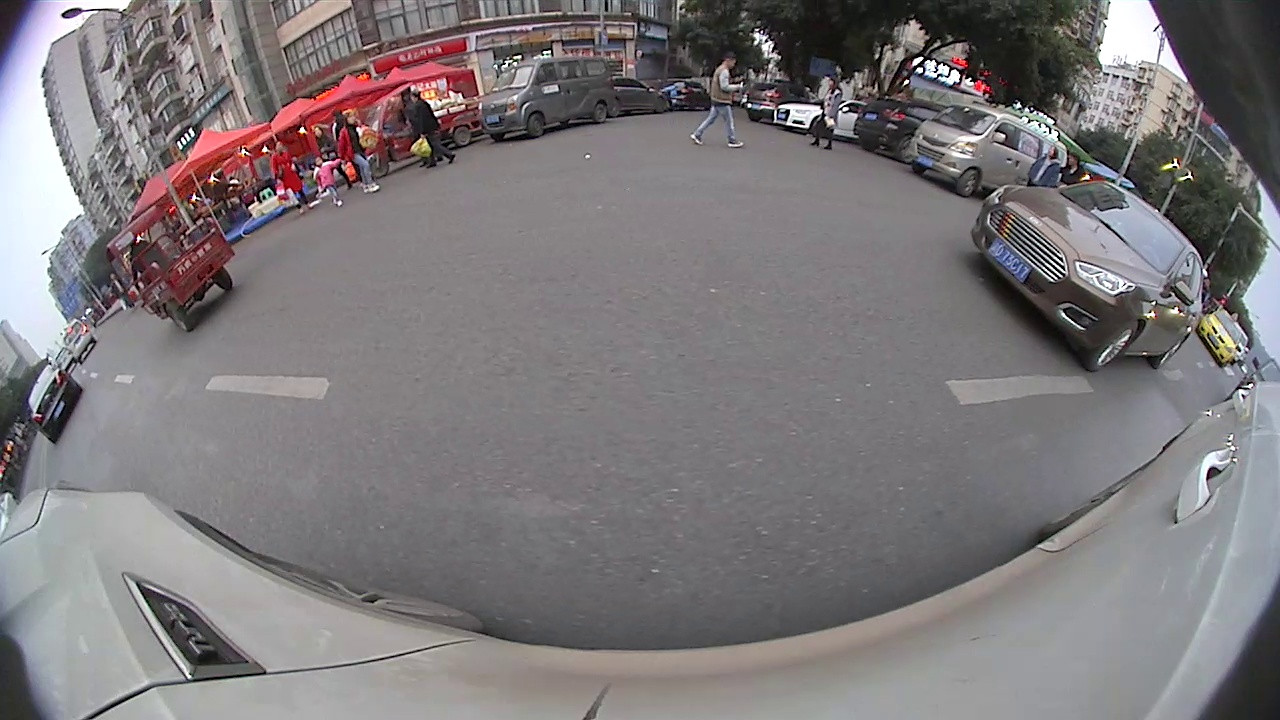car: (967, 179, 1207, 377), (905, 102, 1072, 191), (477, 54, 619, 142), (24, 359, 86, 446), (771, 93, 875, 142), (853, 93, 918, 161), (609, 73, 678, 123), (1201, 301, 1242, 371), (56, 317, 101, 364)
front: (1084, 317, 1140, 373), (954, 167, 982, 200), (528, 111, 547, 140)
person: (336, 106, 379, 196), (710, 47, 744, 153), (821, 73, 844, 151)
rear: (593, 101, 609, 126)
rider: (102, 196, 240, 338)
